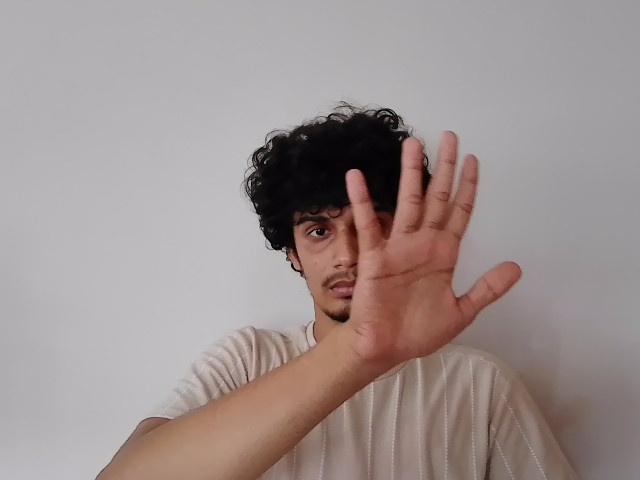goodbye: (342, 130, 528, 361)
